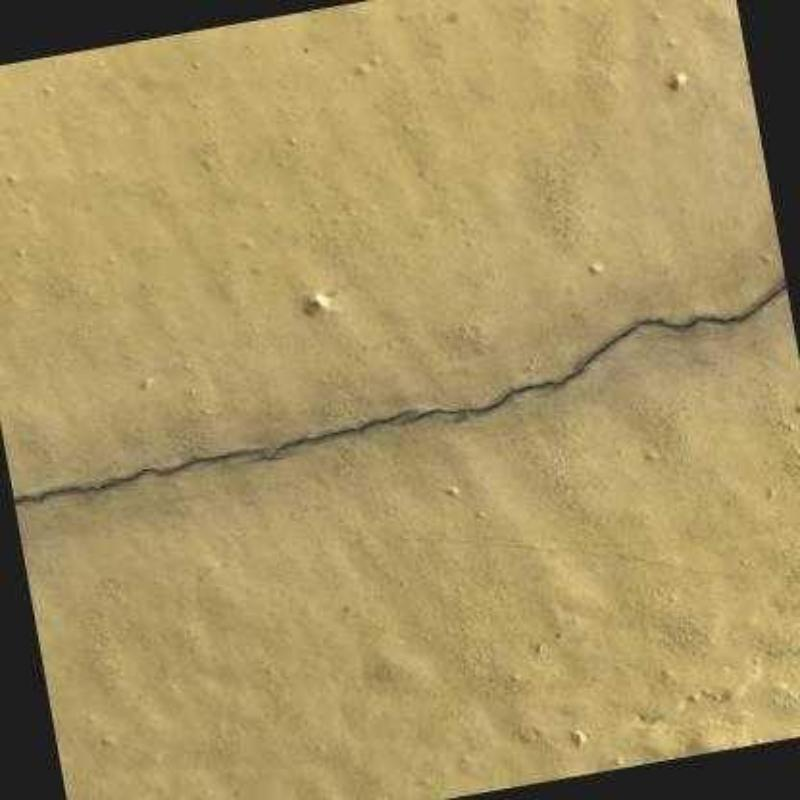pothole: (411, 281, 788, 421), (14, 447, 273, 505), (264, 410, 411, 458)
